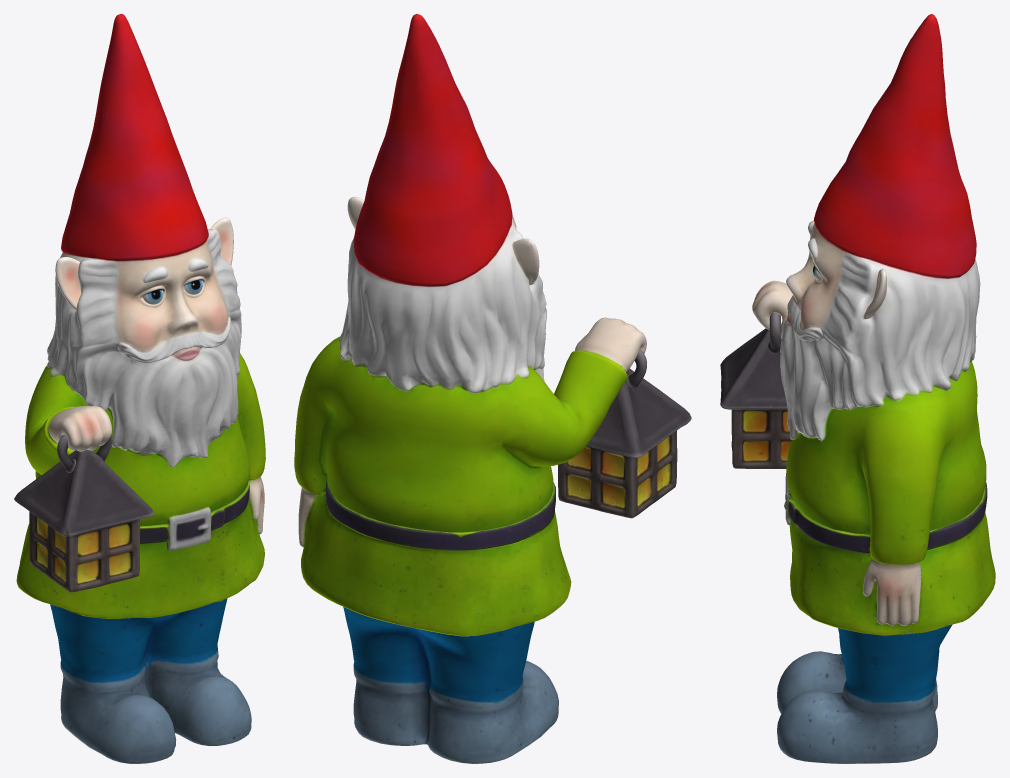
File: garden_gnome_1k-transformed.glb
The picture shows the model from 3 angles, left to right: view 1: azimuth 30°, elevation 25°; view 2: azimuth 150°, elevation 25°; view 3: azimuth 270°, elevation 25°; orthographic projection. The views are drawn at different scales.
Visible parts, largest first — view 1: garden_gnome; view 2: garden_gnome; view 3: garden_gnome.
Part boxes in pixels (x1,y1,x2,y2): garden_gnome: [14, 14, 265, 763]; garden_gnome: [294, 14, 691, 763]; garden_gnome: [720, 14, 995, 763].
Bounding box in the file's own units: 0.2579 × 0.5991 × 0.2097.
1 material, 1 textured.
